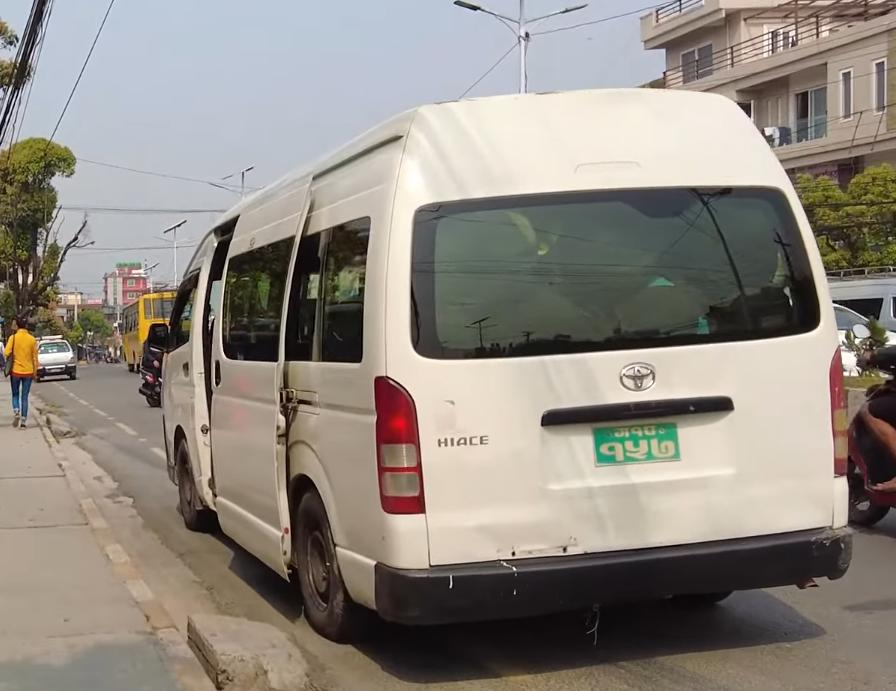bus: (119, 288, 184, 374)
micro_bus: (146, 80, 874, 650)
taxi: (31, 331, 81, 382)
